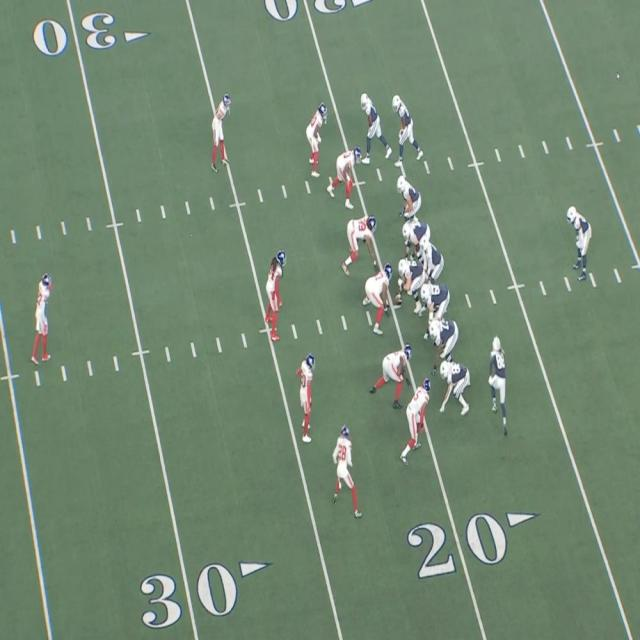center: (394, 258, 418, 308)
db: (34, 270, 52, 360), (338, 422, 356, 509), (307, 102, 325, 174), (215, 94, 232, 168)
lb: (328, 145, 358, 206), (268, 248, 288, 338), (405, 380, 430, 448), (299, 351, 315, 442)
qb: (422, 237, 443, 286)
skill: (394, 94, 419, 160), (442, 358, 472, 411), (568, 206, 590, 278), (363, 93, 386, 155), (492, 338, 508, 420)
